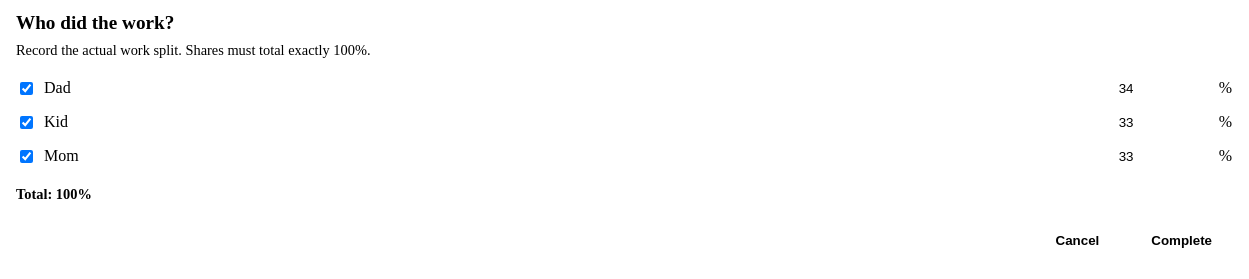
Scenario: ParticipationDialog (WP3 §3.6 actual-work split) › disables confirmation while the shares do not total exactly 100
This screenshot has width=1249, height=279.
Replace the text in the number field with test id "participant-share-mom" with "50" at coordinates (1159, 156), box [1111, 143, 1207, 170]
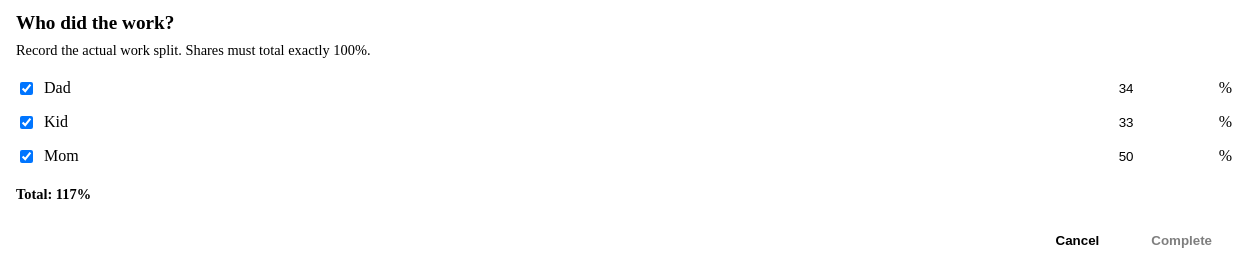
Result: the button with test id "participation-confirm" is disabled at [1131, 219, 1232, 263]
